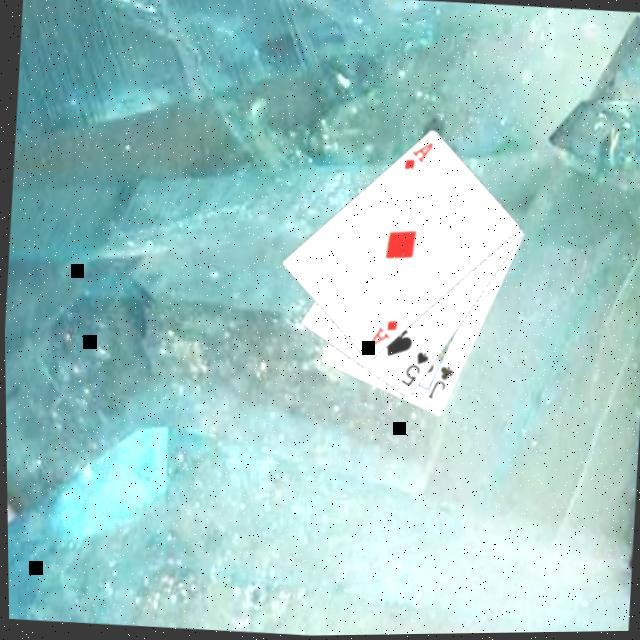5S: (394, 350, 430, 394)
AD: (361, 317, 397, 353), (398, 140, 433, 176)
JC: (421, 364, 454, 406)
